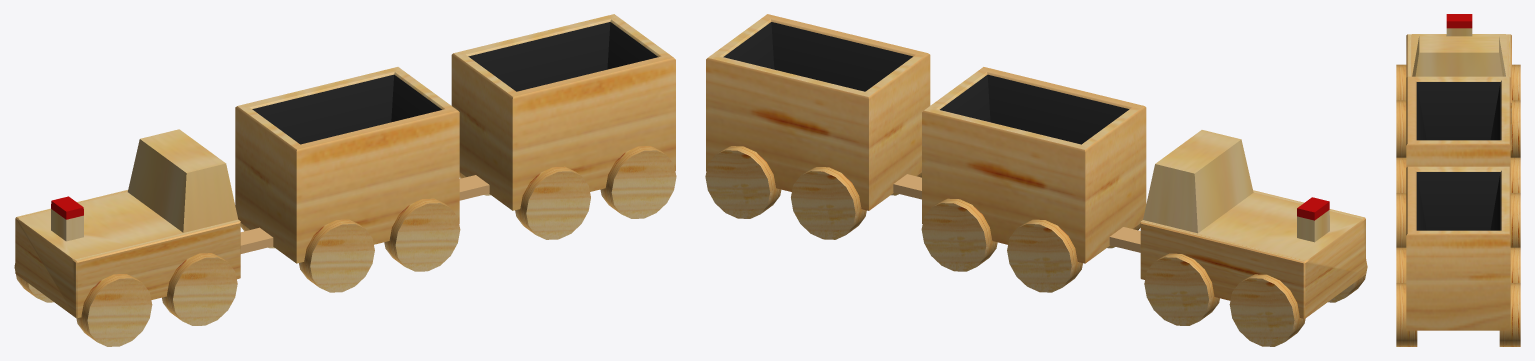
Rendered from train_flat.dae.
3 renders of one model, left to right at view 1: azimuth 30°, elevation 25°; view 2: azimuth 150°, elevation 25°; view 3: azimuth 270°, elevation 25°, orthographic. The views are drawn at different scales.
Parts seen in each view (by area): view 1: Wagon1, Wagon2, EngineCar; view 2: Wagon1, Wagon2, EngineCar; view 3: Wagon2, Wagon1, EngineCar.
Part boxes in pixels (x1,y1,x2,y2): Wagon1: (235, 67, 460, 292); Wagon2: (451, 14, 676, 239); EngineCar: (14, 129, 240, 346); Wagon1: (921, 67, 1146, 292); Wagon2: (705, 14, 930, 239); EngineCar: (1140, 130, 1367, 346); Wagon2: (1396, 166, 1520, 346); Wagon1: (1396, 76, 1520, 247); EngineCar: (1396, 14, 1520, 157).
Bounding box in the file's own units: 27.73 × 6.5 × 5.85.
Materials: 4 (2 with a texture image).
